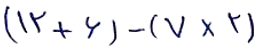character: (2, 4, 17, 43), (163, 15, 186, 38), (84, 15, 102, 40), (29, 9, 46, 34), (106, 19, 119, 47), (52, 22, 72, 39), (147, 13, 159, 40), (201, 19, 217, 39), (245, 13, 255, 45), (227, 13, 242, 34), (18, 9, 29, 35), (128, 26, 147, 36)
